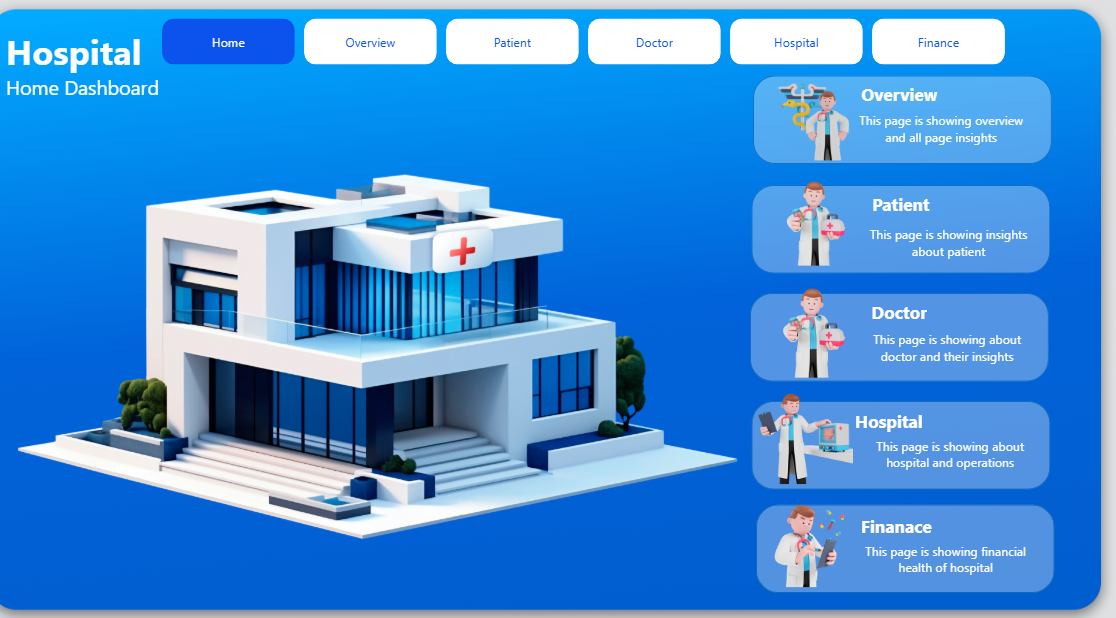

What the dashboard file says about the page in this screenshot:
{"tool":"powerbi","page":{"name":"Home","canvas":[1280,720],"ordinal":0},"visuals":[{"type":"actionButton","box":[0,0,99.2,40.7],"z":0},{"type":"textbox","box":[50,46,348,250],"z":1000},{"type":"pageNavigator","box":[224.5,40.7,917.4,50.4],"z":2000},{"type":"image","box":[50,128,812,552],"z":3000},{"type":"shape","box":[865.3,103.2,324,96],"z":4000,"group":"g5"},{"type":"group","id":"g1","title":"Group 1","box":[850.7,557.9,341.6,105.7],"z":4000},{"type":"shape","box":[862.1,337.8,324,96],"z":5000,"group":"g3"},{"type":"group","id":"g2","title":"Group 2","box":[860.4,426.2,328.6,130.1],"z":5000},{"type":"group","id":"g3","title":"Group 3","box":[862.1,318.8,323.7,115.5],"z":6000},{"type":"shape","box":[864.4,454.7,324,96],"z":6000,"group":"g2"},{"type":"group","id":"g4","title":"Group 4","box":[863.7,203.3,323.7,115.5],"z":7000},{"type":"shape","box":[868.9,567.3,323.7,96],"z":7000,"group":"g1"},{"type":"group","id":"g5","title":"Group 5","box":[865.3,99.2,323.7,99.2],"z":8000},{"type":"shape","box":[863.7,220.8,324,96],"z":8000,"group":"g4"},{"type":"shape","box":[957.3,99.2,132,48],"z":9000,"group":"g5"},{"type":"image","box":[865.3,99.2,134,100],"z":10000,"group":"g5"},{"type":"shape","box":[959.7,217.3,132,48],"z":11000,"group":"g4"},{"type":"shape","box":[958.1,334.8,132,48],"z":12000,"group":"g3"},{"type":"shape","box":[946.4,454.2,132,48],"z":13000,"group":"g2"},{"type":"shape","box":[954.7,567.9,132,48],"z":14000,"group":"g1"},{"type":"shape","box":[969.3,125.2,200,70],"z":15000,"group":"g5"},{"type":"shape","box":[977.7,249.3,200,70],"z":16000,"group":"g4"},{"type":"shape","box":[976.1,362.8,200,70],"z":17000,"group":"g3"},{"type":"shape","box":[978.4,478.2,200,70],"z":18000,"group":"g2"},{"type":"shape","box":[974.7,591.9,200,70],"z":19000,"group":"g1"},{"type":"image","box":[873.7,203.3,116,110],"z":20000,"group":"g4"},{"type":"image","box":[870.1,318.8,118,116],"z":21000,"group":"g3"},{"type":"image","box":[860.4,426.2,118,130],"z":22000,"group":"g2"},{"type":"image","box":[850.7,557.9,154,104],"z":23000,"group":"g1"}]}

Visuals, with their boxes in screenshot pixels (x1, y1, x2, y2), scaled from the page's 1280x720 canvas onto the 1116x618 screenshot:
actionButton: [0,0,86,35]
textbox: [44,39,347,254]
pageNavigator: [196,35,996,78]
image: [44,110,752,584]
shape: [754,89,1037,171]
"Group 1" group: [742,479,1040,570]
shape: [752,290,1034,372]
"Group 2" group: [750,366,1037,477]
"Group 3" group: [752,274,1034,373]
shape: [754,390,1036,473]
"Group 4" group: [753,174,1035,274]
shape: [758,487,1040,569]
"Group 5" group: [754,85,1037,170]
shape: [753,190,1036,272]
shape: [835,85,950,126]
image: [754,85,871,171]
shape: [837,187,952,228]
shape: [835,287,950,329]
shape: [825,390,940,431]
shape: [832,487,947,529]
shape: [845,107,1019,168]
shape: [852,214,1027,274]
shape: [851,311,1025,371]
shape: [853,410,1027,471]
shape: [850,508,1024,568]
image: [762,174,863,269]
image: [759,274,861,373]
image: [750,366,853,477]
image: [742,479,876,568]
